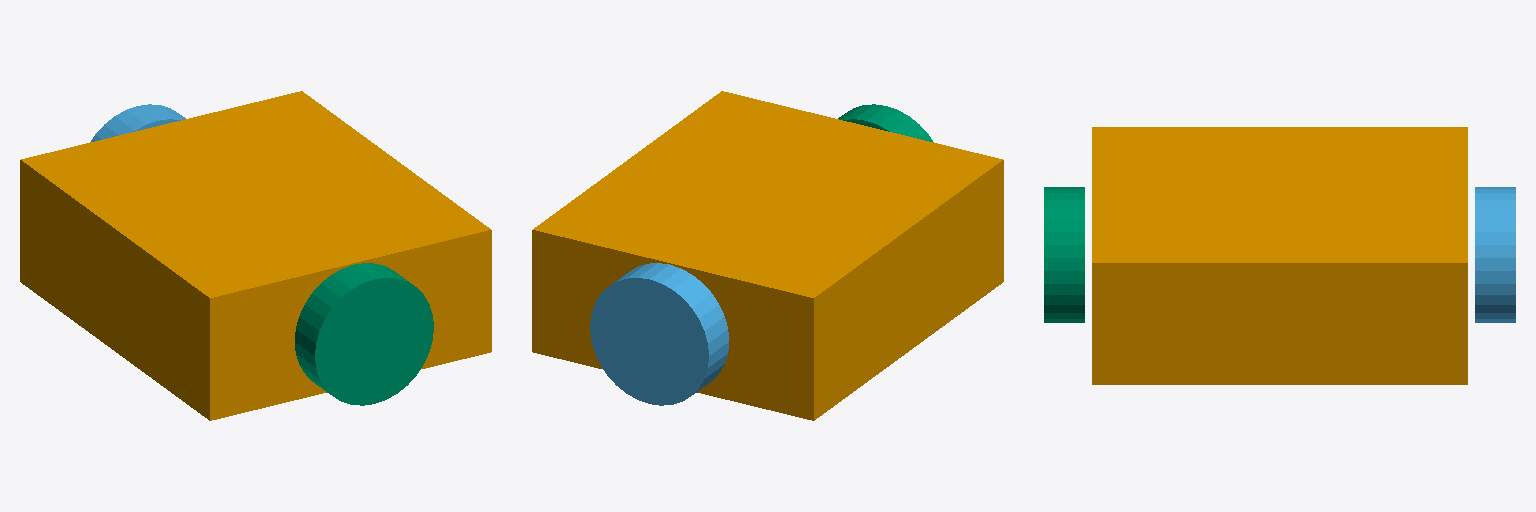
The robot description file, URDF, robot "demo_robot":
<?xml version="1.0"?>
<!--
  demo_robot: a deliberately mis-configured differential drive robot.
  Every defect below is realistic and was planted on purpose so the auditor has
  something to find. See examples/README.md for the list.
-->
<robot name="demo_robot">

  <link name="base_link">
    <inertial>
      <origin xyz="0 0 0.05" rpy="0 0 0"/>
      <mass value="2.4"/>
      <inertia ixx="0" iyy="0" izz="0" ixy="0" ixz="0" iyz="0"/>
    </inertial>
    <visual>
      <origin xyz="0 0 0.05" rpy="0 0 0"/>
      <geometry>
        <box size="0.24 0.28 0.10"/>
      </geometry>
    </visual>
    <collision>
      <origin xyz="0 0 0.05" rpy="0 0 0"/>
      <geometry>
        <box size="0.24 0.28 0.10"/>
      </geometry>
    </collision>
  </link>

  <link name="left_wheel">
    <inertial>
      <origin xyz="0 0 0" rpy="1.5708 0 0"/>
      <mass value="0.18"/>
      <inertia ixx="0.0001" iyy="0.0002" izz="0.0002" ixy="0" ixz="0" iyz="0"/>
    </inertial>
    <visual>
      <origin xyz="0 0 0" rpy="1.5708 0 0"/>
      <geometry>
        <cylinder radius="0.0508" length="0.03"/>
      </geometry>
    </visual>
    <collision>
      <origin xyz="0 0 0" rpy="1.5708 0 0"/>
      <geometry>
        <cylinder radius="0.0508" length="0.03"/>
      </geometry>
    </collision>
  </link>

  <link name="right_wheel">
    <inertial>
      <origin xyz="0 0 0" rpy="1.5708 0 0"/>
      <mass value="0.18"/>
      <inertia ixx="0.0001" iyy="0.0002" izz="0.0002" ixy="0" ixz="0" iyz="0"/>
    </inertial>
    <visual>
      <origin xyz="0 0 0" rpy="1.5708 0 0"/>
      <geometry>
        <cylinder radius="0.0508" length="0.03"/>
      </geometry>
    </visual>
    <collision>
      <origin xyz="0 0 0" rpy="1.5708 0 0"/>
      <geometry>
        <cylinder radius="0.0508" length="0.03"/>
      </geometry>
    </collision>
  </link>

  <link name="caster_link">
    <visual>
      <origin xyz="0 0 0" rpy="0 0 0"/>
      <geometry>
        <sphere radius="0.02"/>
      </geometry>
    </visual>
  </link>

  <joint name="left_wheel_joint" type="continuous">
    <parent link="base_link"/>
    <child link="left_wheel"/>
    <origin xyz="0 0.16 0.0508" rpy="0 0 0"/>
    <axis xyz="0 0 1"/>
    <limit effort="5.0" velocity="12.0"/>
  </joint>

  <joint name="right_wheel_joint" type="continuous">
    <parent link="base_link"/>
    <child link="right_wheel"/>
    <origin xyz="0 -0.16 0.0508" rpy="0 0 0"/>
    <axis xyz="0 1 0"/>
    <limit effort="5.0" velocity="12.0"/>
  </joint>

  <joint name="caster_joint" type="fixed">
    <parent link="base_link"/>
    <child link="caster_link"/>
    <origin xyz="0.09 0 0.02" rpy="0 0 0"/>
  </joint>

  <gazebo>
    <plugin name="diff_drive" filename="libgazebo_ros_diff_drive.so">
      <update_rate>20</update_rate>
      <left_joint>left_wheel_joint</left_joint>
      <right_joint>right_wheel_joint</right_joint>
      <wheel_separation>0.30</wheel_separation>
      <wheel_diameter>0.10</wheel_diameter>
      <max_wheel_torque>5.0</max_wheel_torque>
      <max_wheel_acceleration>2.0</max_wheel_acceleration>
      <odometry_frame>odom</odometry_frame>
      <robot_base_frame>base_link</robot_base_frame>
    </plugin>
  </gazebo>

  <gazebo reference="left_wheel">
    <mu1 value="1.0"/>
    <mu2 value="1.0"/>
  </gazebo>

  <gazebo reference="right_wheel">
    <mu1 value="1.0"/>
    <mu2 value="1.0"/>
  </gazebo>

</robot>

--- Facts derived from the render (not from the file) ---
3 views of the same robot in one strip: view 1: azimuth 30°, elevation 25°; view 2: azimuth 150°, elevation 25°; view 3: azimuth 270°, elevation 25° (orthographic).
Model demo_robot with 4 links and 3 joints (2 continuous, 1 fixed), rooted at base_link, posed all joints at 0.
Visible links, largest first — view 1: base_link, right_wheel, left_wheel; view 2: base_link, left_wheel, right_wheel; view 3: base_link, left_wheel, right_wheel.
Link boxes in pixels (x1,y1,x2,y2): base_link: (20,91,491,420); right_wheel: (295,263,433,405); left_wheel: (90,104,185,142); base_link: (532,91,1003,420); left_wheel: (590,263,728,405); right_wheel: (838,104,933,142); base_link: (1092,127,1467,384); left_wheel: (1475,187,1515,322); right_wheel: (1044,187,1084,322).
Size in the robot's own frame: 0.24 by 0.35 by 0.1016 metres.
Geometry: primitives only (box / cylinder / sphere), no mesh files.
